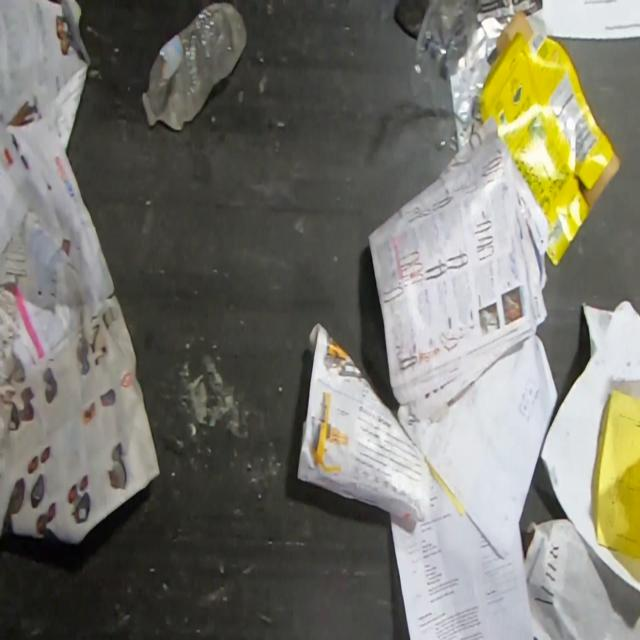cardboard: (476, 9, 622, 269)
rigid_plastic: (139, 0, 248, 132)
soft_plastic: (407, 0, 492, 152)
